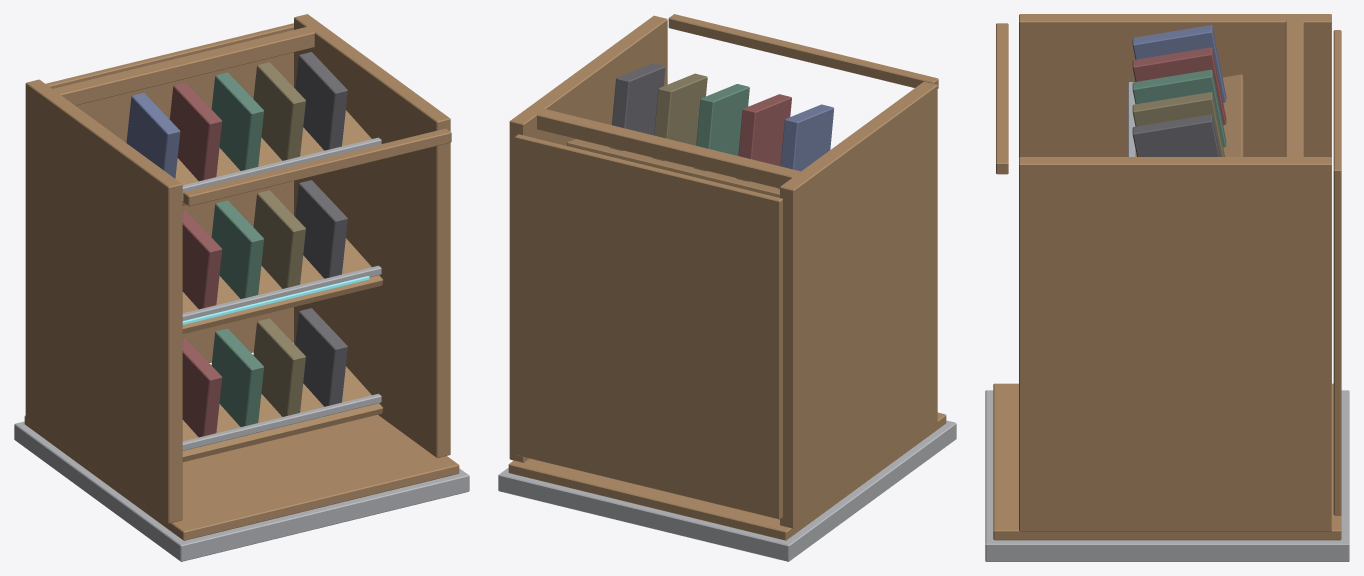
The model's file is prop_binder_rack_01.glb.
3 renders of one model, left to right at view 1: azimuth 30°, elevation 25°; view 2: azimuth 150°, elevation 25°; view 3: azimuth 270°, elevation 25°, orthographic. The views are drawn at different scales.
Parts seen in each view (by area): view 1: prop_binder_rack_01; view 2: prop_binder_rack_01; view 3: prop_binder_rack_01.
Part boxes in pixels (x1,y1,x2,y2): prop_binder_rack_01: [14, 14, 469, 561]; prop_binder_rack_01: [498, 14, 956, 561]; prop_binder_rack_01: [985, 14, 1349, 561].
Bounding box in the file's own units: 0.9 × 1.12 × 0.9.
